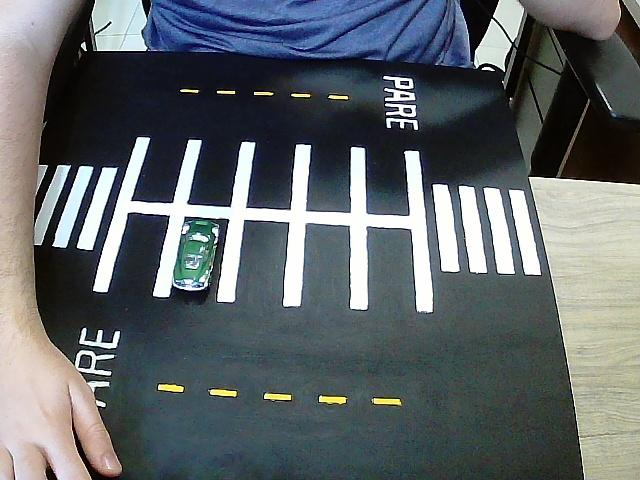Carro: (171, 217, 219, 296)
